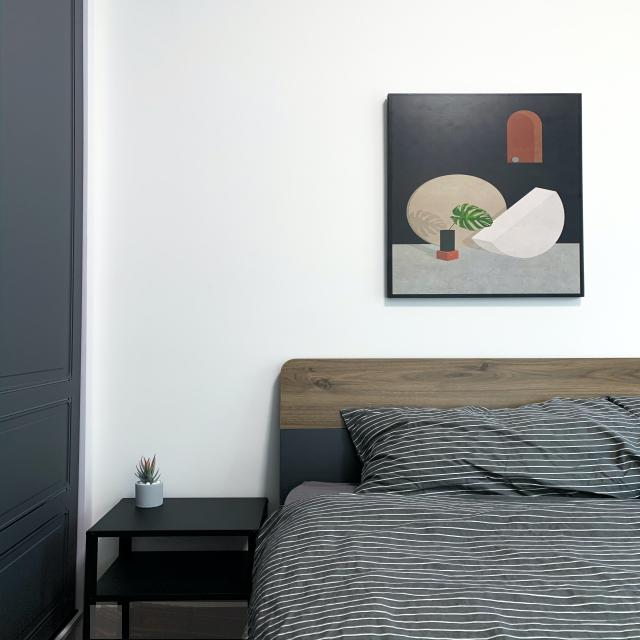floor: (129, 603, 248, 640), (91, 606, 122, 639)
